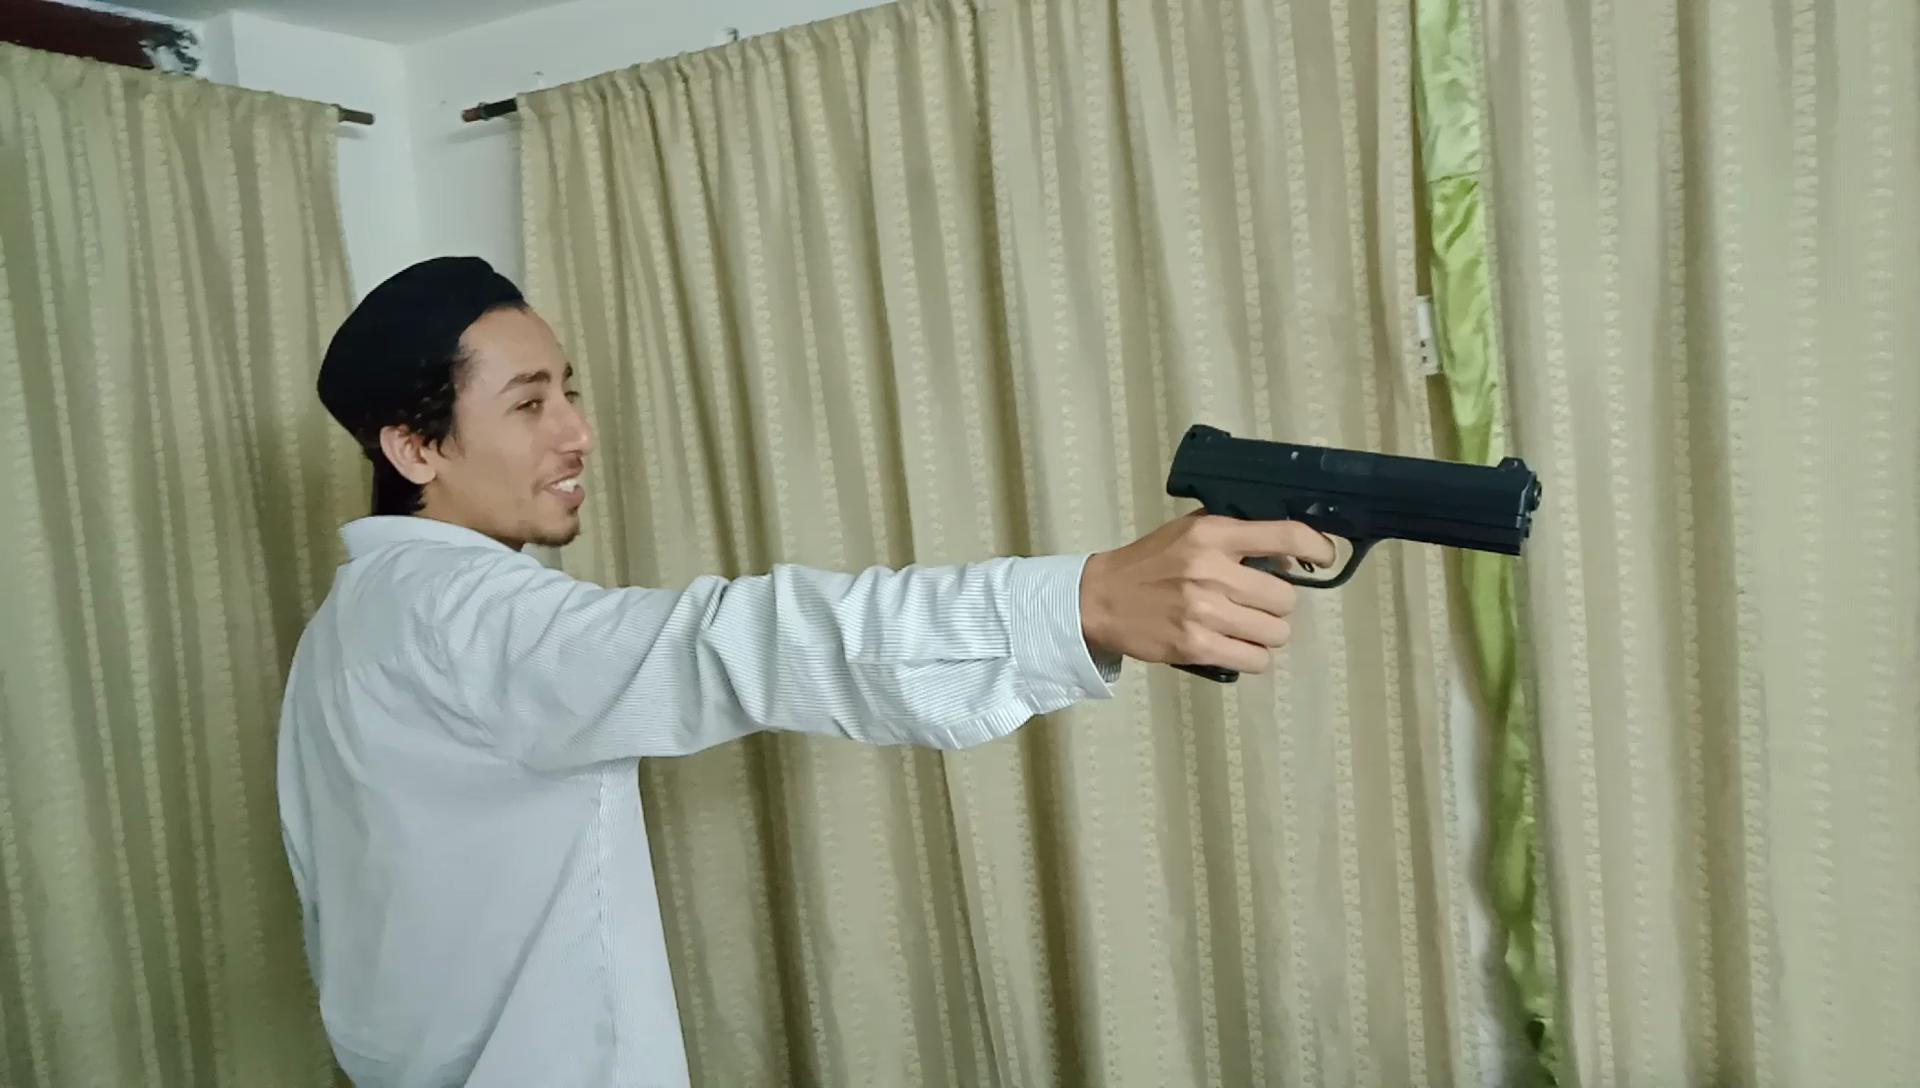criminal: (273, 247, 1553, 1088)
weapon: (1156, 415, 1548, 692)
